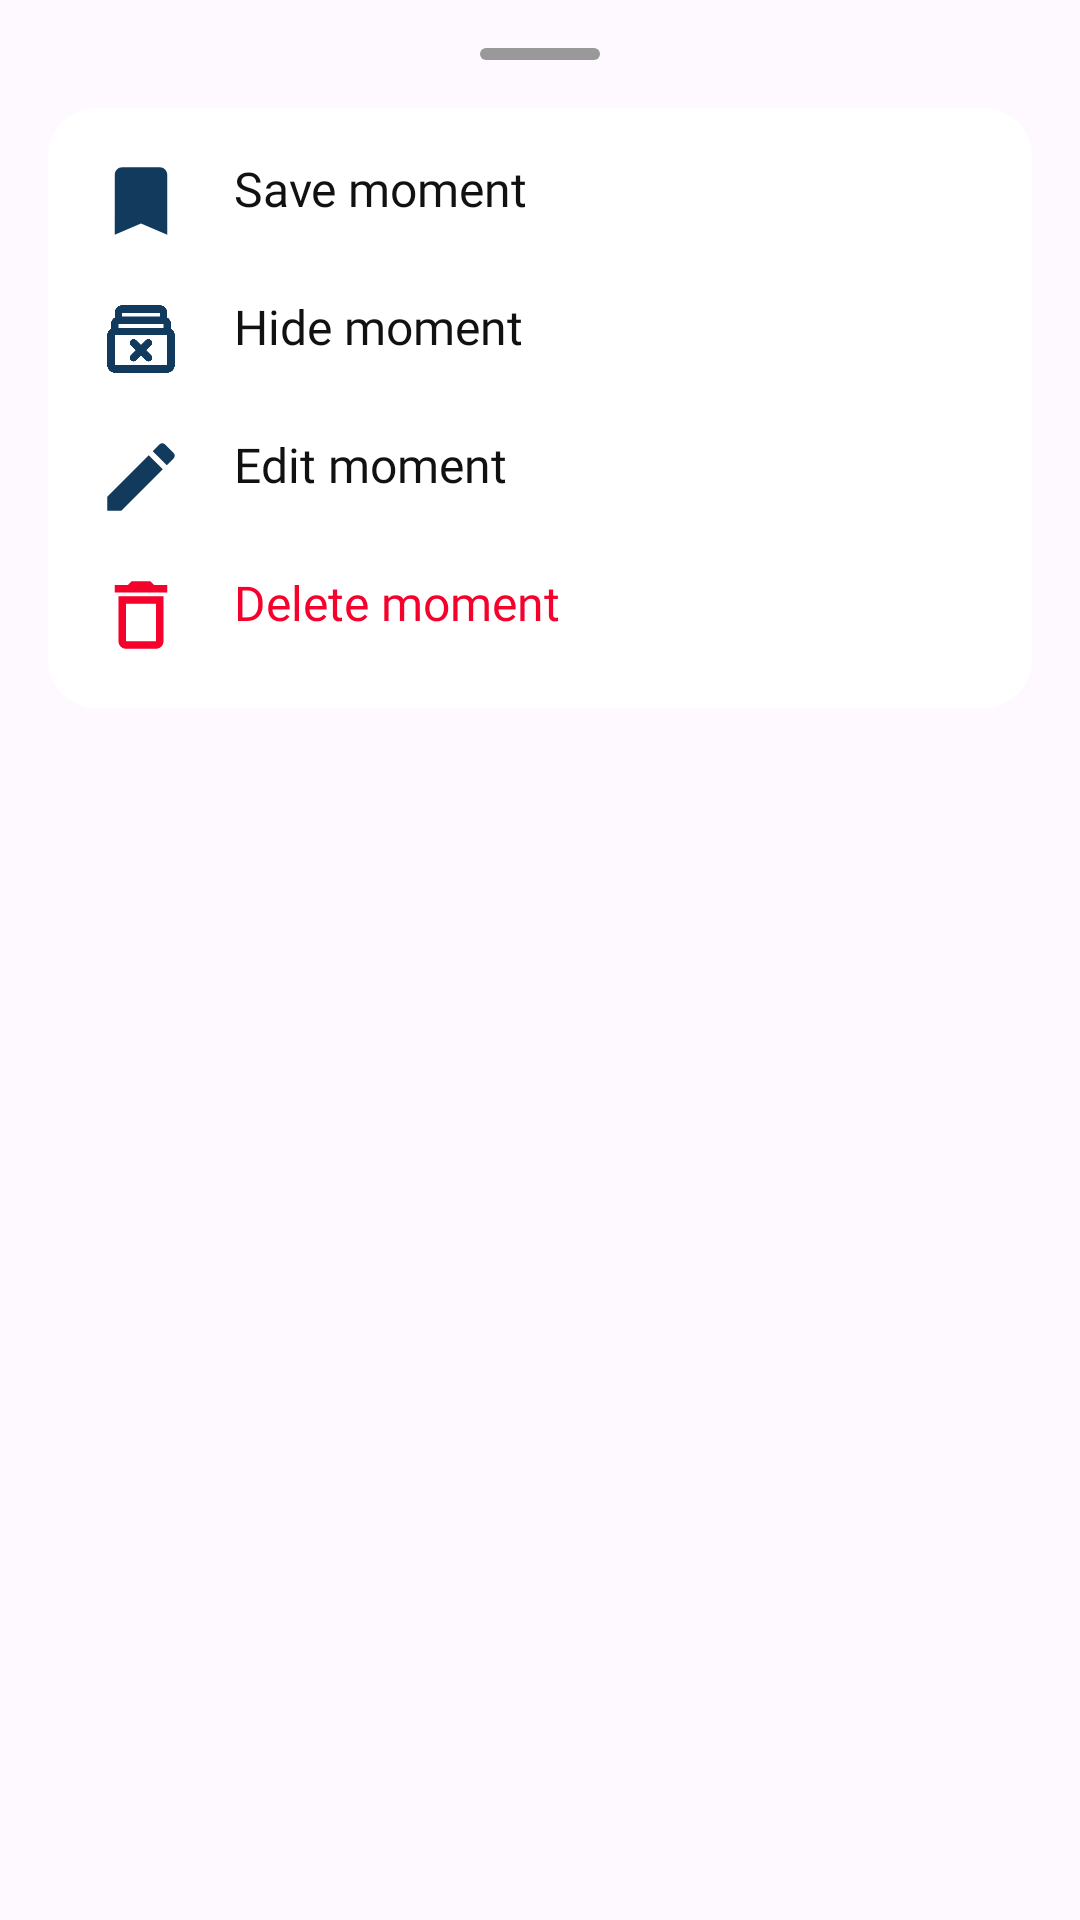

Screen size 1080*1920. Icon name, then its center in pixels as point (x, y):
bookmark: point (141, 201)
